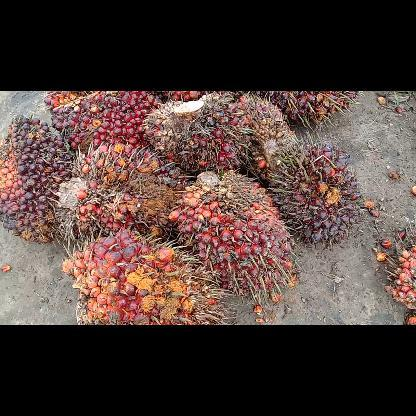TBS masak: (66, 230, 232, 324), (183, 174, 300, 302), (59, 152, 191, 240), (0, 114, 76, 244), (274, 145, 362, 245), (150, 101, 245, 179), (40, 92, 162, 150), (236, 94, 300, 174), (260, 91, 364, 127)
